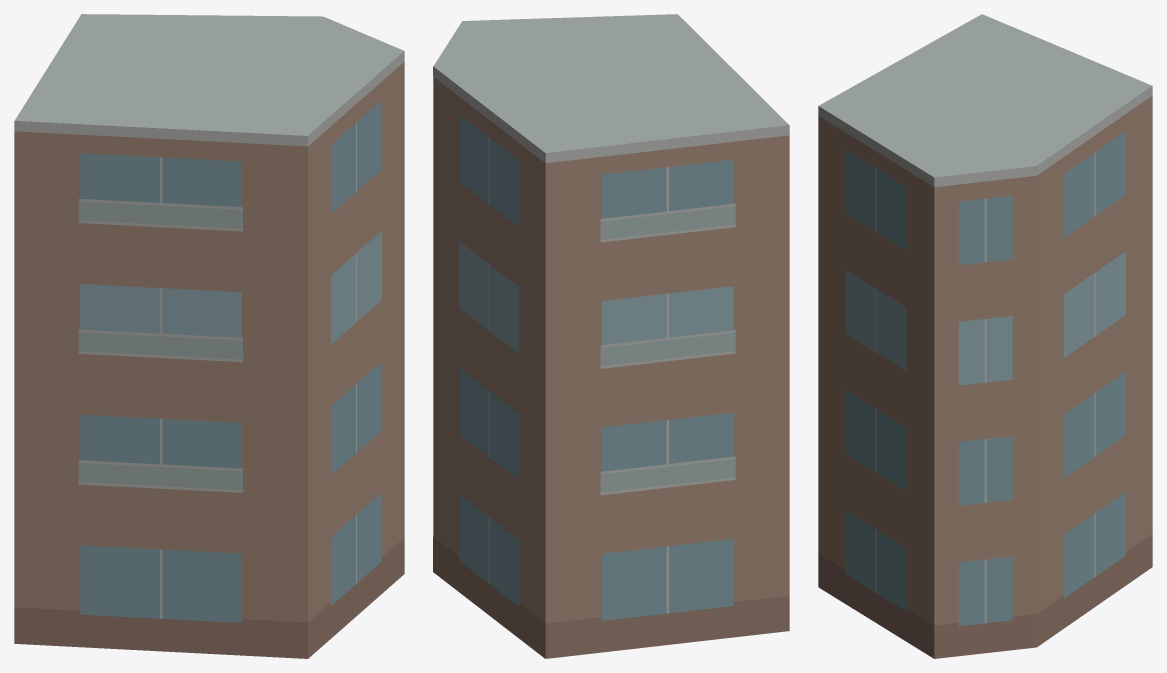
File: survey-upis-32469099.glb
3 views of the same model, side by side, from view 1: azimuth 30°, elevation 25°; view 2: azimuth 150°, elevation 25°; view 3: azimuth 270°, elevation 25° (orthographic). The views are drawn at different scales.
Visible parts, largest first — view 1: survey-upis-32469099.tmp; view 2: survey-upis-32469099.tmp; view 3: survey-upis-32469099.tmp.
Boxes of the visible parts, <box> form: survey-upis-32469099.tmp: <box>14,14,404,658</box>; survey-upis-32469099.tmp: <box>433,14,789,658</box>; survey-upis-32469099.tmp: <box>818,14,1152,658</box>.
Bounding box in the file's own units: 8.91 × 12.2 × 7.69.
